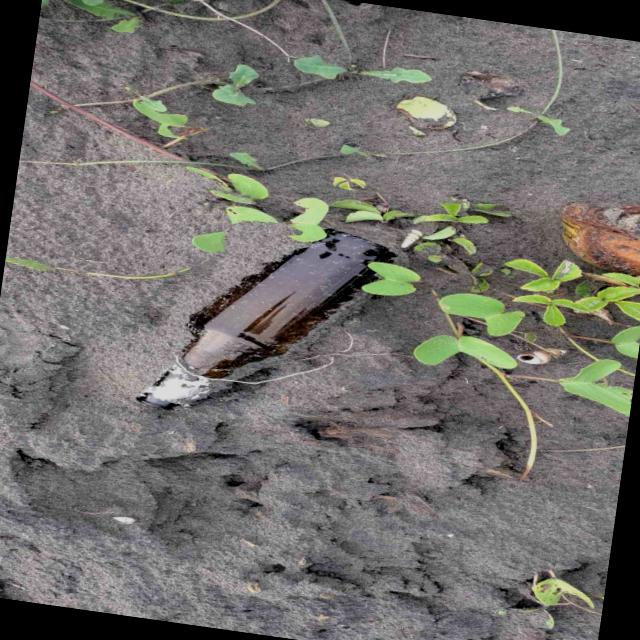chai_thuy_tinh: (138, 232, 395, 409)
